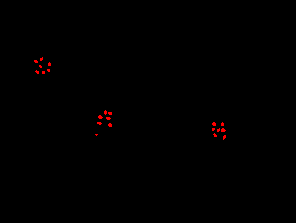Target: (98, 115, 103, 119), (221, 128, 226, 132), (35, 70, 39, 74), (212, 122, 216, 126), (108, 123, 112, 127), (213, 133, 217, 137), (104, 110, 107, 115), (106, 117, 111, 120), (97, 122, 102, 125), (223, 135, 226, 140), (40, 57, 43, 61), (34, 60, 38, 63), (48, 62, 51, 66), (108, 112, 112, 115), (221, 122, 224, 126), (217, 128, 220, 132), (39, 65, 42, 68), (47, 69, 50, 72), (42, 71, 45, 74), (212, 128, 215, 131), (95, 134, 98, 136)
